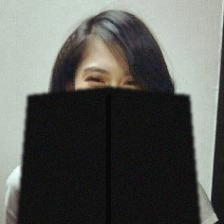Cadar_Niqab: (16, 9, 201, 224)
